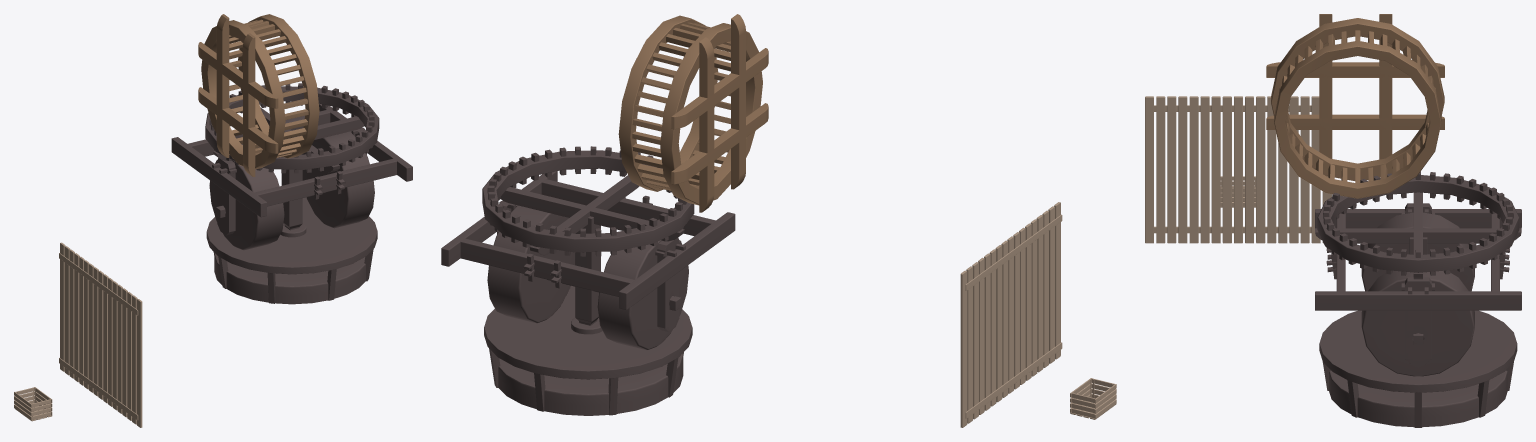
Rendered from PlanksAndGrinderFix.fbx.
The picture shows the model from 3 angles, left to right: view 1: azimuth 30°, elevation 25°; view 2: azimuth 150°, elevation 25°; view 3: azimuth 270°, elevation 25°; orthographic projection. The views are drawn at different scales.
Parts seen in each view (by area): view 1: Grinder_A, Base_LowPoly, ThinHalfWall, Grinder_B, Wheel_B, Wheel_A, Plank_C3, Plank_C2, Plank_C1, Plank_C, StorageCrate; view 2: Grinder_A, Base_LowPoly, ThinHalfWall, Grinder_B, Wheel_B, Wheel_A, Plank_C2, Plank_C3, Plank_C1, Plank_C, StorageCrate; view 3: ThinHalfWall, Grinder_A, Base_LowPoly, Grinder_B, Wheel_B, Plank_C, Wheel_A, Plank_C1, Plank_C3, Plank_C2.
Part boxes in pixels (x1,y1,x2,y2): Grinder_A: (171,83,412,235); Base_LowPoly: (206,197,377,304); ThinHalfWall: (59,242,142,427); Grinder_B: (201,14,319,169); Wheel_B: (302,131,374,228); Wheel_A: (209,160,284,250); Plank_C3: (216,14,229,157); Plank_C2: (243,33,255,176); Plank_C1: (198,42,278,108); Plank_C: (198,87,278,153); StorageCrate: (14,387,52,421); Grinder_A: (441,146,735,331); Base_LowPoly: (484,285,692,415); ThinHalfWall: (960,202,1062,427); Grinder_B: (618,15,762,205); Wheel_B: (487,205,575,323); Wheel_A: (597,240,688,349); Plank_C2: (731,14,745,189); Plank_C3: (699,37,714,212); Plank_C1: (671,48,768,129); Plank_C: (671,103,768,184); StorageCrate: (1070,378,1116,419); ThinHalfWall: (1145,96,1331,243); Grinder_A: (1315,171,1521,364); Base_LowPoly: (1319,310,1517,427); Grinder_B: (1271,18,1444,198); Wheel_B: (1361,270,1474,376); Plank_C: (1266,114,1444,129); Wheel_A: (1361,212,1474,291); Plank_C1: (1266,62,1444,77); Plank_C3: (1379,14,1392,159); Plank_C2: (1319,14,1332,176).
Size of the model in its own units: 6.3 by 4.11 by 4.19.
